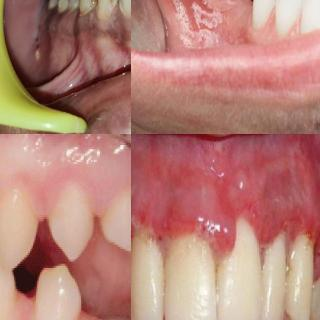Gum Swelling: (131, 190, 320, 281), (79, 0, 131, 38)
calculus: (84, 0, 101, 12), (108, 0, 121, 10)
maligned: (262, 232, 286, 320)
plaque: (131, 210, 167, 260), (167, 230, 209, 272)
